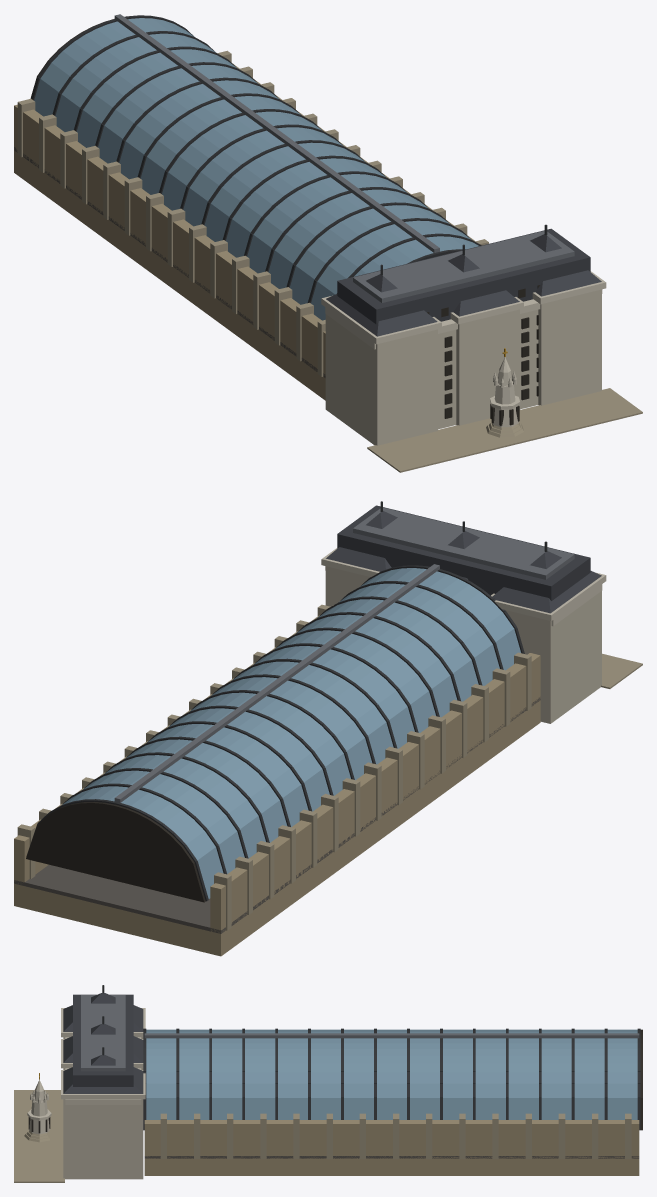
File: charing_cross_station.glb
3 renders of one model, top to bottom at view 1: azimuth 30°, elevation 25°; view 2: azimuth 150°, elevation 25°; view 3: azimuth 270°, elevation 25°, orthographic. The views are drawn at different scales.
Parts seen in each view (by area): view 1: charing_cross_station; view 2: charing_cross_station; view 3: charing_cross_station.
Boxes of the visible parts, x1,y1,x2,y2 form: charing_cross_station: (14, 14, 642, 472); charing_cross_station: (14, 501, 642, 956); charing_cross_station: (14, 985, 642, 1182).
Size of the model in its own units: 68 by 41.7 by 197.
